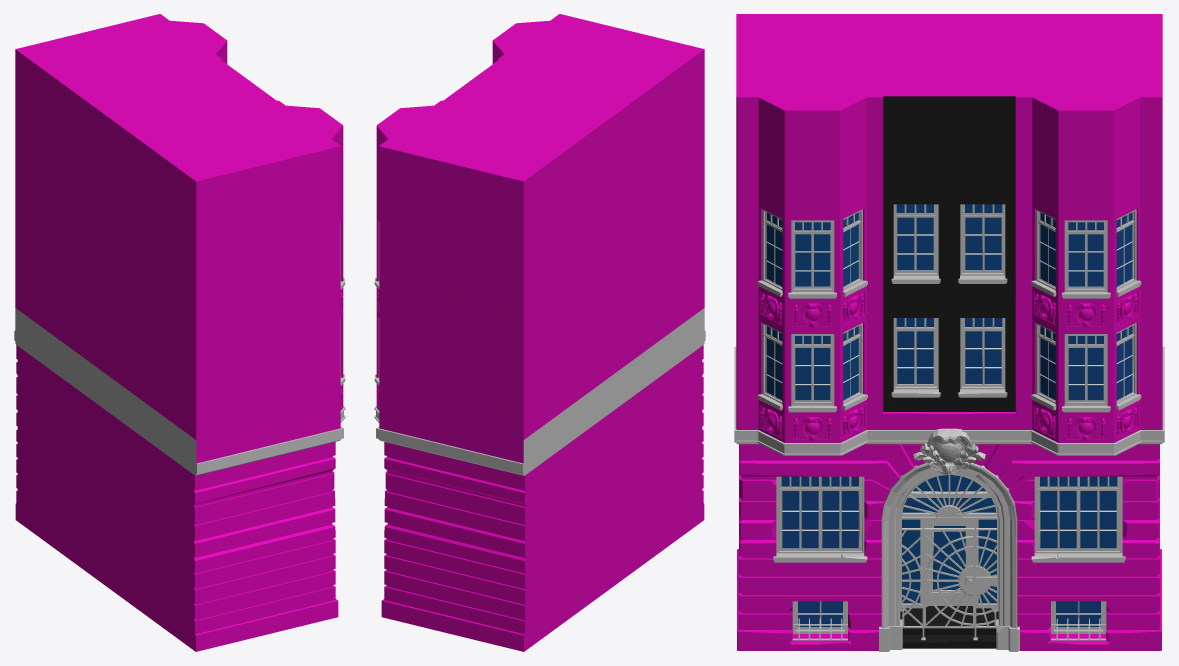
The model's file is Building_Apartment00.fbx.
The picture shows the model from 3 angles, left to right: view 1: azimuth 30°, elevation 25°; view 2: azimuth 150°, elevation 25°; view 3: azimuth 270°, elevation 25°; orthographic projection. The views are drawn at different scales.
Parts seen in each view (by area): view 1: SM_City_Building_Apartment_02.mo; view 2: SM_City_Building_Apartment_02.mo; view 3: SM_City_Building_Apartment_02.mo.
Part boxes in pixels (bbox=[...]): SM_City_Building_Apartment_02.mo: bbox=[14, 14, 345, 651]; SM_City_Building_Apartment_02.mo: bbox=[374, 14, 705, 651]; SM_City_Building_Apartment_02.mo: bbox=[734, 14, 1164, 651].
Bounding box in the file's own units: 550 × 1450 × 1020.
